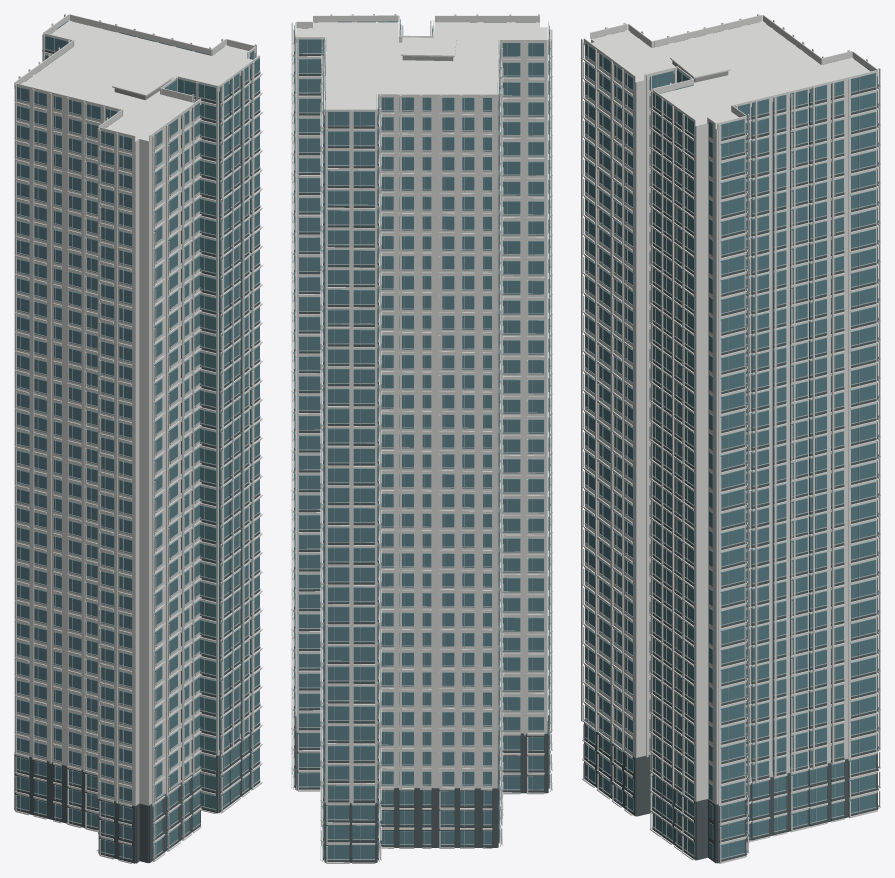
The model's file is bespoke-acro-riverpark-109.glb.
3 views of the same model, side by side, from view 1: azimuth 30°, elevation 25°; view 2: azimuth 150°, elevation 25°; view 3: azimuth 270°, elevation 25° (orthographic). The views are drawn at different scales.
Visible parts, largest first — view 1: 109_Warm_pale_architectural_planes002, 109_Blue_grey_glazing002, 109_Silver_glazing_mullions002, 109_Charcoal_stone_lower_storeys002; view 2: 109_Warm_pale_architectural_planes002, 109_Blue_grey_glazing002, 109_Silver_glazing_mullions002, 109_Charcoal_stone_lower_storeys002; view 3: 109_Warm_pale_architectural_planes002, 109_Blue_grey_glazing002, 109_Charcoal_stone_lower_storeys002, 109_Silver_glazing_mullions002.
Boxes of the visible parts, left/top/right/bottom form: 109_Warm_pale_architectural_planes002: left=14, top=14, right=262, bottom=863; 109_Blue_grey_glazing002: left=17, top=21, right=259, bottom=860; 109_Silver_glazing_mullions002: left=16, top=38, right=260, bottom=859; 109_Charcoal_stone_lower_storeys002: left=14, top=50, right=260, bottom=863; 109_Warm_pale_architectural_planes002: left=291, top=14, right=552, bottom=863; 109_Blue_grey_glazing002: left=294, top=19, right=549, bottom=858; 109_Silver_glazing_mullions002: left=293, top=24, right=550, bottom=860; 109_Charcoal_stone_lower_storeys002: left=294, top=52, right=548, bottom=862; 109_Warm_pale_architectural_planes002: left=581, top=14, right=880, bottom=863; 109_Blue_grey_glazing002: left=585, top=22, right=877, bottom=860; 109_Charcoal_stone_lower_storeys002: left=584, top=85, right=878, bottom=863; 109_Silver_glazing_mullions002: left=584, top=44, right=878, bottom=859.
Size of the model in its own units: 42.32 by 132 by 48.47.
